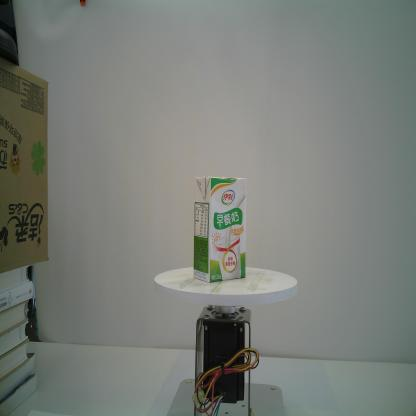Milk: (193, 176, 246, 283)
